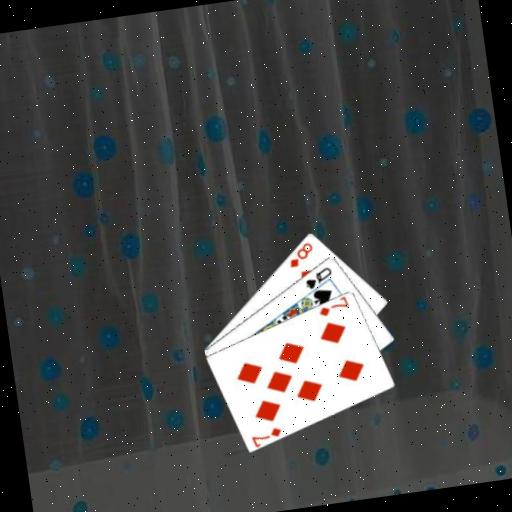7D: (315, 294, 352, 319), (247, 423, 284, 448)
8D: (283, 239, 316, 270)
QS: (300, 264, 335, 292)
